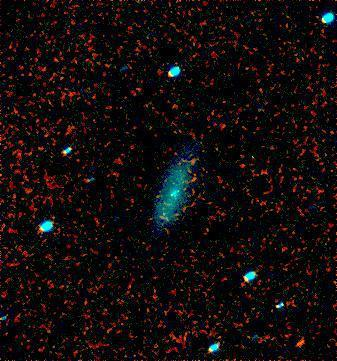star: (288, 327, 318, 357)
